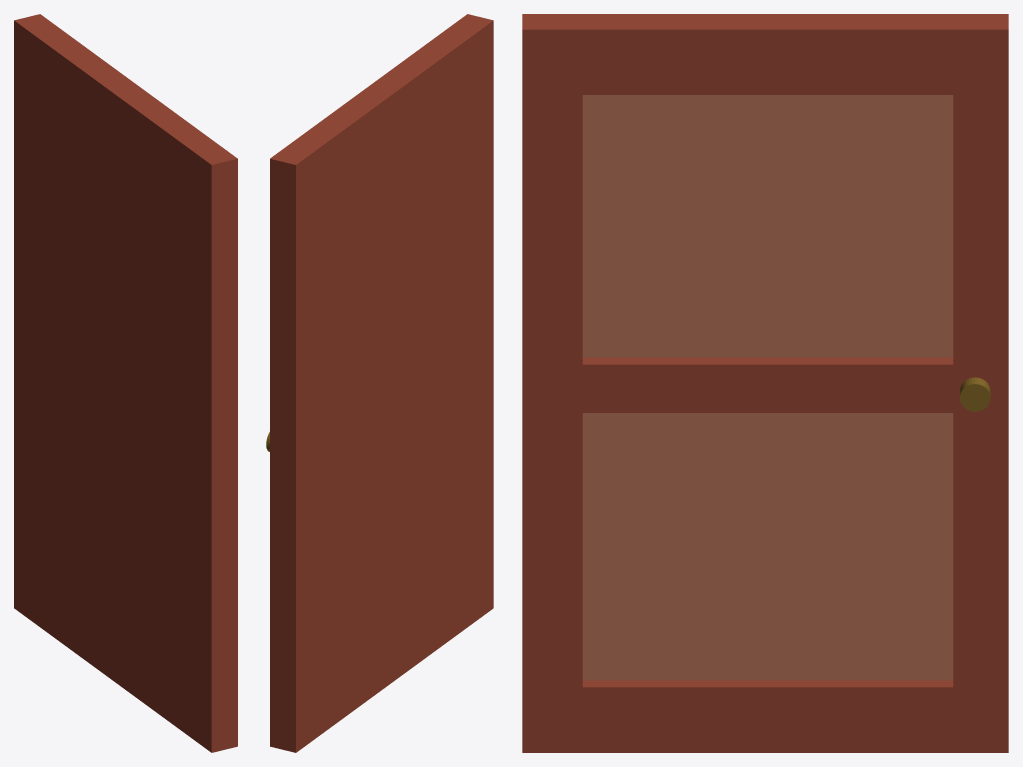
File: door_red.fbx
3 renders of one model, left to right at view 1: azimuth 30°, elevation 25°; view 2: azimuth 150°, elevation 25°; view 3: azimuth 270°, elevation 25°, orthographic. The views are drawn at different scales.
Visible parts, largest first — view 1: Cube; view 2: Cube; view 3: Cube, Cylinder.
Boxes of the visible parts, x1,y1,x2,y2 form: Cube: [14, 14, 237, 752]; Cube: [270, 14, 493, 752]; Cube: [522, 14, 1008, 752]; Cylinder: [960, 377, 990, 411].
Size of the model in its own units: 64.76 by 977 by 595.
